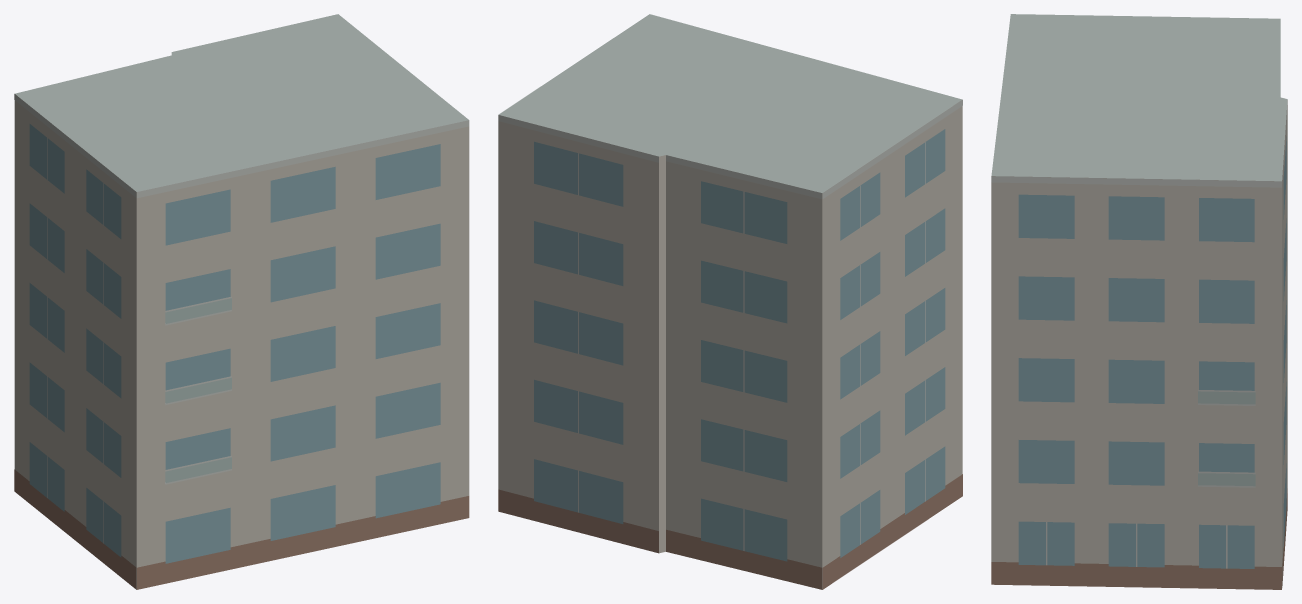
Rendered from survey-upis-32775933.glb.
3 views of the same model, side by side, from view 1: azimuth 30°, elevation 25°; view 2: azimuth 150°, elevation 25°; view 3: azimuth 270°, elevation 25° (orthographic). The views are drawn at different scales.
Parts seen in each view (by area): view 1: survey-upis-32775933.tmp; view 2: survey-upis-32775933.tmp; view 3: survey-upis-32775933.tmp.
Boxes of the visible parts, x1,y1,x2,y2 form: survey-upis-32775933.tmp: [14, 14, 469, 589]; survey-upis-32775933.tmp: [498, 14, 962, 589]; survey-upis-32775933.tmp: [991, 14, 1287, 589].
Bounding box in the file's own units: 13.62 × 15.5 × 10.19.
